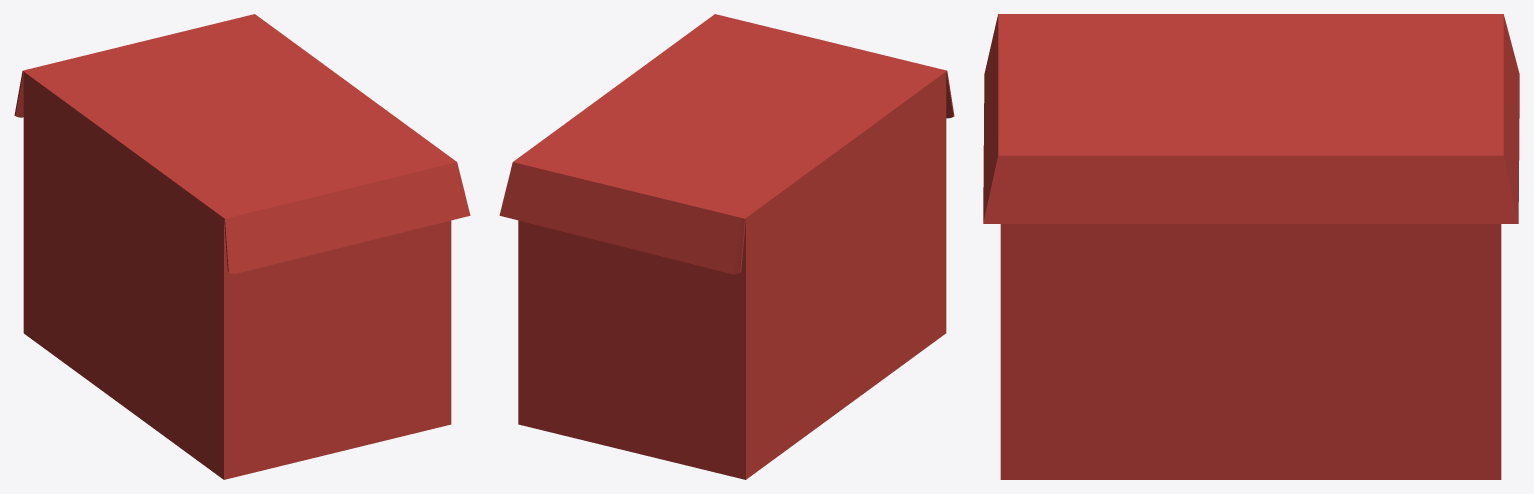
File: CAJAROJA.fbx
3 views of the same model, side by side, from view 1: azimuth 30°, elevation 25°; view 2: azimuth 150°, elevation 25°; view 3: azimuth 270°, elevation 25° (orthographic). The views are drawn at different scales.
Visible parts, largest first — view 1: box; view 2: box; view 3: box.
Boxes of the visible parts, left/top/right/bottom form: box: left=14, top=14, right=470, bottom=479; box: left=499, top=14, right=954, bottom=479; box: left=983, top=14, right=1519, bottom=479.
Bounding box in the file's own units: 342 × 355 × 527.
